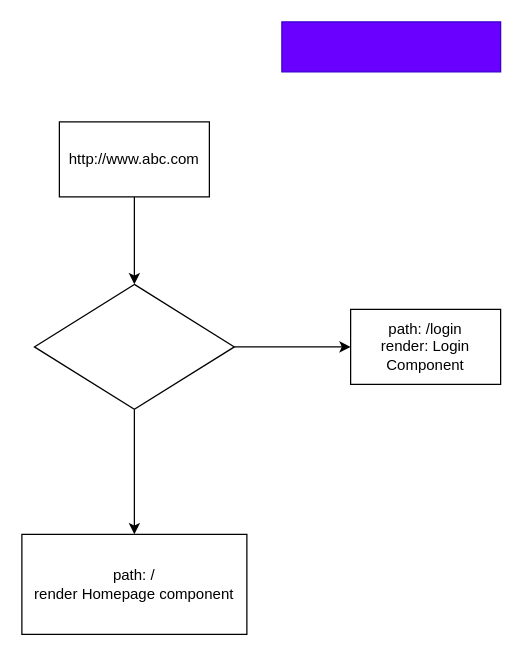
This 523x656 diagram has some shape labels left out. Each missing label, with the box of its shape:
Check is Login ?: (33, 283, 234, 409)
NOTE APP FLOWCHAR: (281, 21, 501, 72)
